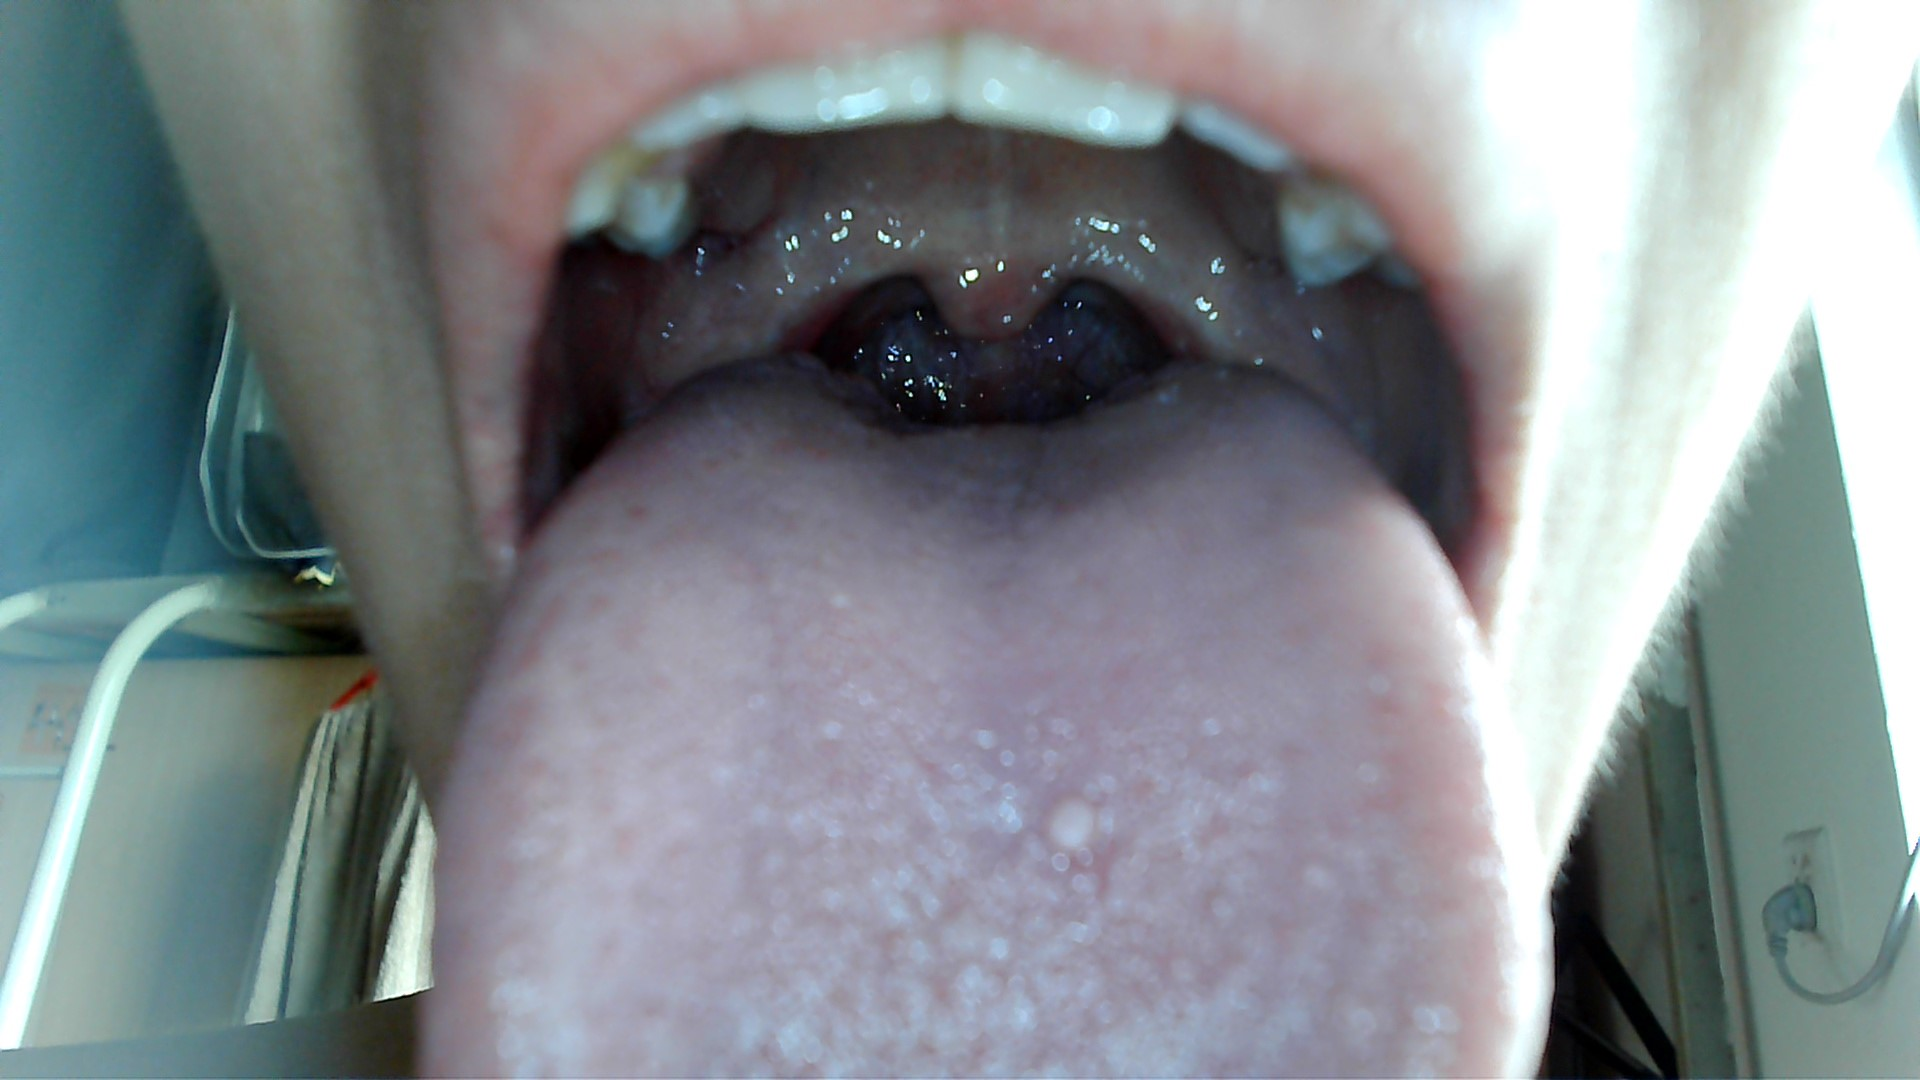throat: (1106, 248, 1258, 364), (742, 236, 894, 352)
